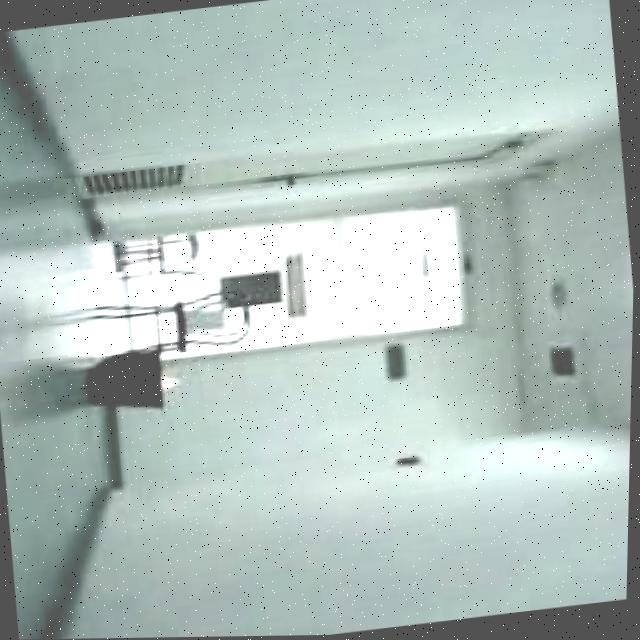Fire: (159, 372, 183, 396)
